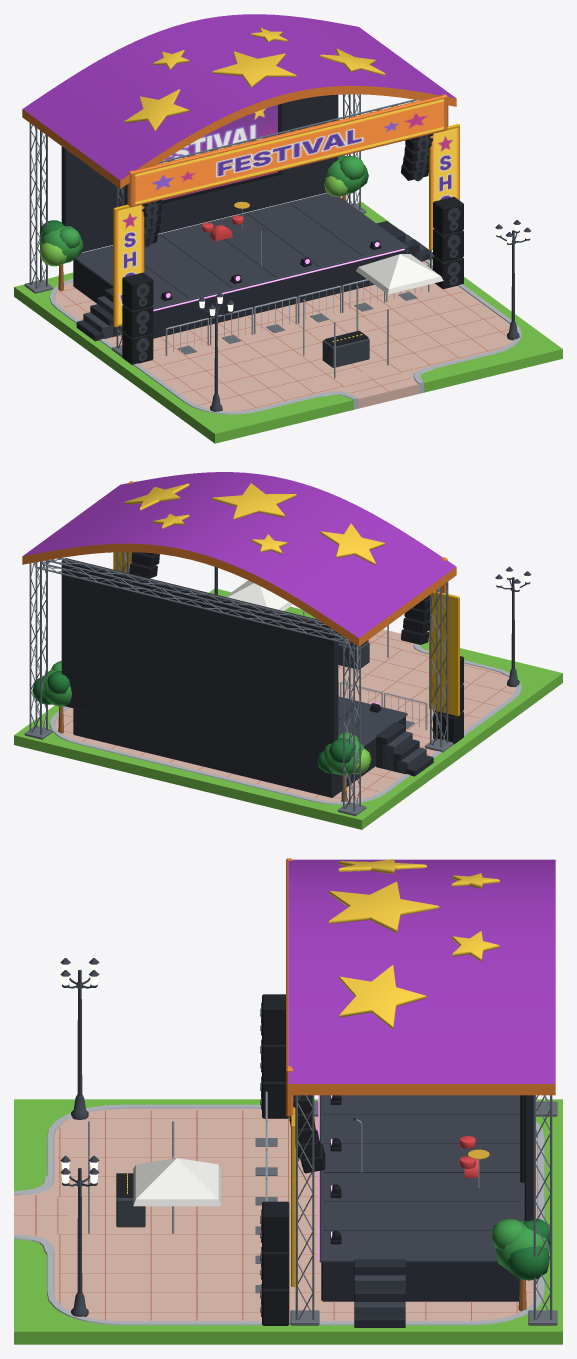
Rendered from palco_festival.glb.
3 renders of one model, top to bottom at view 1: azimuth 30°, elevation 25°; view 2: azimuth 150°, elevation 25°; view 3: azimuth 270°, elevation 25°, orthographic. The views are drawn at different scales.
Visible parts, largest first — view 1: palco_festival, telao; view 2: palco_festival; view 3: palco_festival.
Boxes of the visible parts, x1,y1,x2,y2 form: palco_festival: (14,14,562,443); telao: (158,105,277,200); palco_festival: (14,472,562,829); palco_festival: (14,858,562,1344).
Bounding box in the file's own units: 15 × 9.75 × 15.
8 materials, 4 textured.
